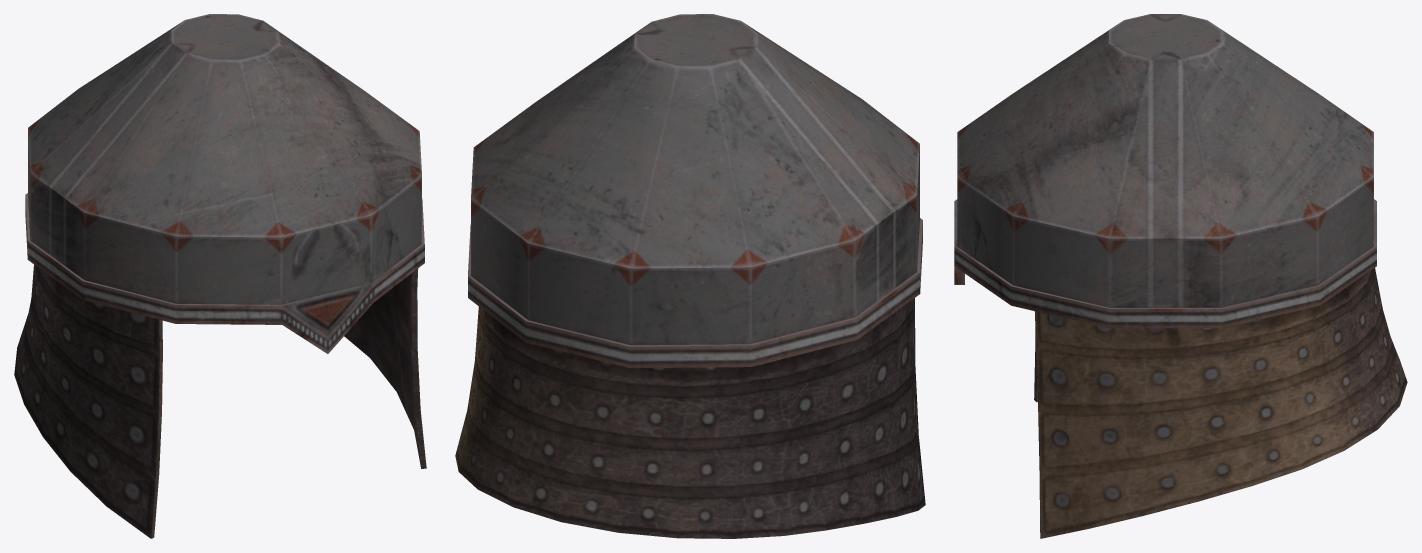
Rendered from sk_dwarf_iron_helmet_light_c2.fbx.
The picture shows the model from 3 angles, left to right: view 1: azimuth 30°, elevation 25°; view 2: azimuth 150°, elevation 25°; view 3: azimuth 270°, elevation 25°; orthographic projection. The views are drawn at different scales.
Visible parts, largest first — view 1: sk_dwarf_iron_helmet_light_c2.0, sk_dwarf_iron_helmet_light_c2.1; view 2: sk_dwarf_iron_helmet_light_c2.0, sk_dwarf_iron_helmet_light_c2.1; view 3: sk_dwarf_iron_helmet_light_c2.0, sk_dwarf_iron_helmet_light_c2.1.
Boxes of the visible parts, x1,y1,x2,y2 form: sk_dwarf_iron_helmet_light_c2.0: [25, 14, 424, 353]; sk_dwarf_iron_helmet_light_c2.1: [14, 264, 426, 538]; sk_dwarf_iron_helmet_light_c2.0: [468, 14, 922, 368]; sk_dwarf_iron_helmet_light_c2.1: [455, 298, 925, 538]; sk_dwarf_iron_helmet_light_c2.0: [954, 14, 1376, 328]; sk_dwarf_iron_helmet_light_c2.1: [1034, 268, 1407, 538].
Size of the model in its own units: 0.2636 by 0.2968 by 0.3126.
